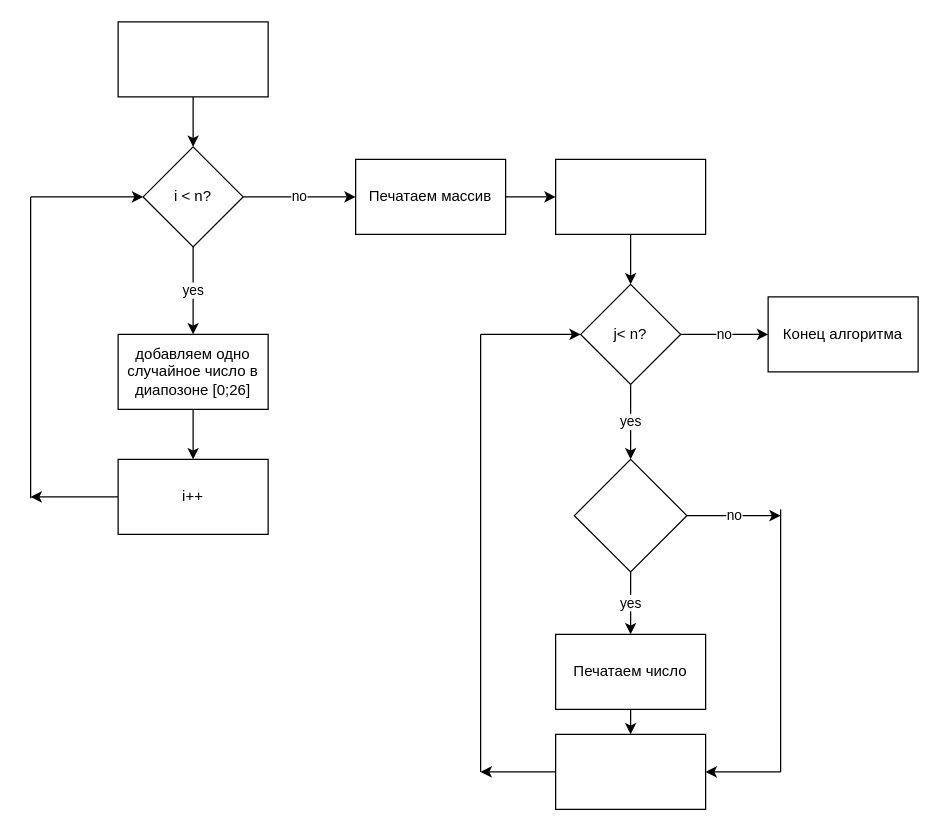
Some shapes in this 940 by 831 pixel diagram are drawn without their labels. The centre of each missing label's shape, as x and y in pixels:
array=[a1, a2, a3,...a25] array.Length = n i = 0: point 192,59
array=[a1, a2, a3,...a25] array.Length = n j = 0: point 630,196
array[a] % 2 ==0: point 630,515
j++: point 630,771
